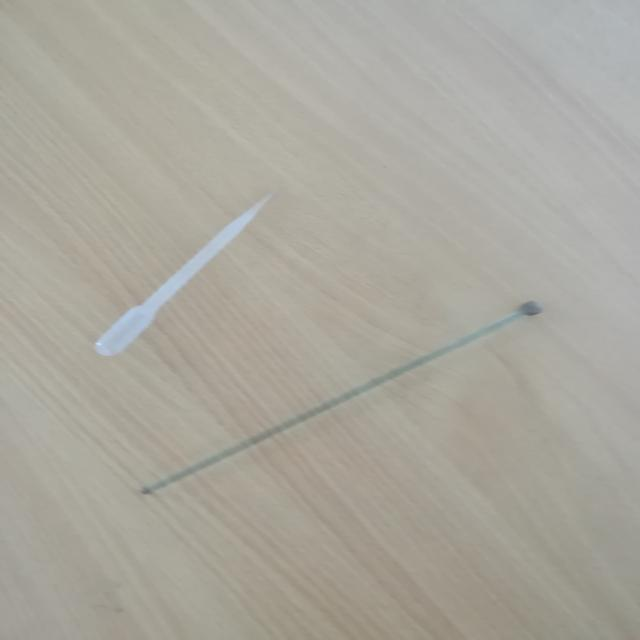Glass_Rod: (122, 287, 577, 514)
Pipette: (72, 157, 290, 374)
